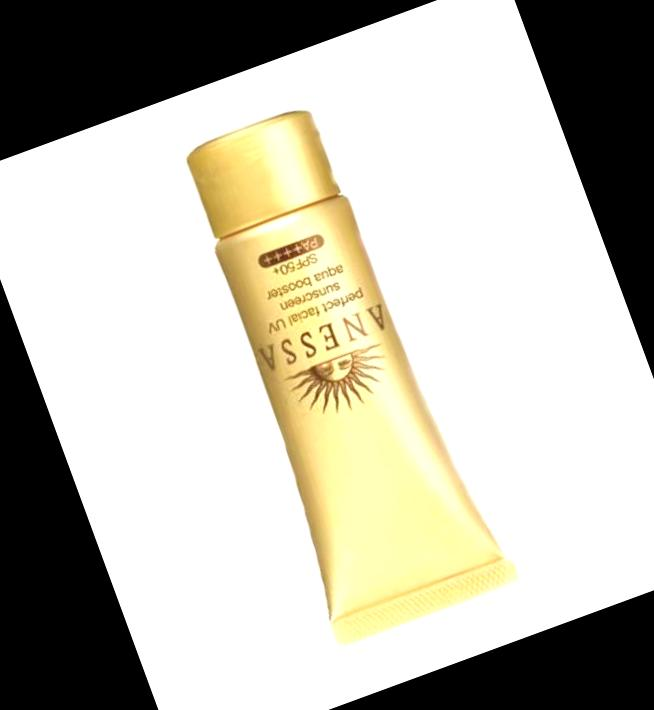cosmetic: (158, 90, 524, 647)
